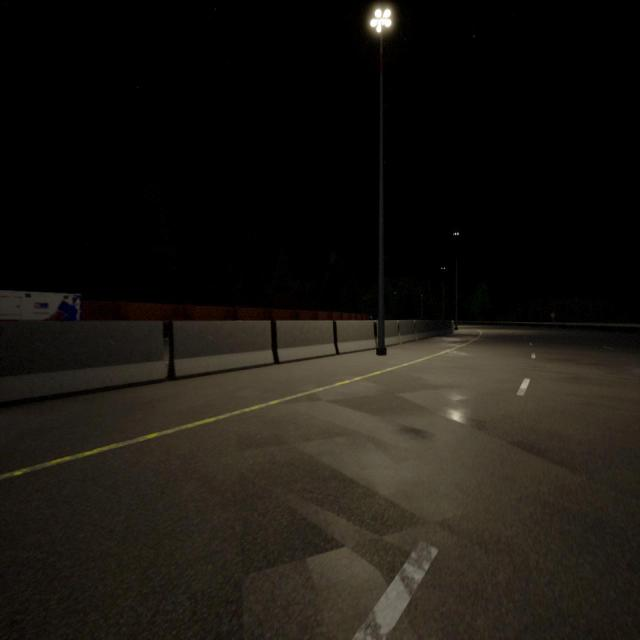Traffic_Signs: (551, 313, 555, 317)
Vehicle: (0, 290, 82, 320)
